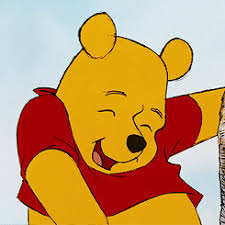Winnie: (31, 10, 207, 183)
